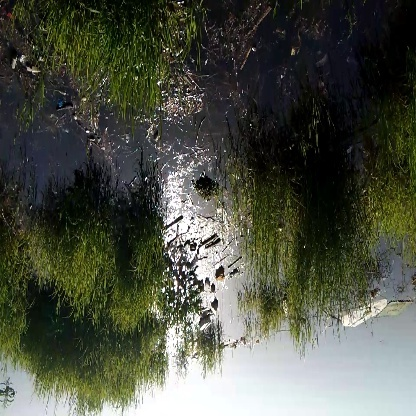plastic-bag: (338, 287, 394, 339)
